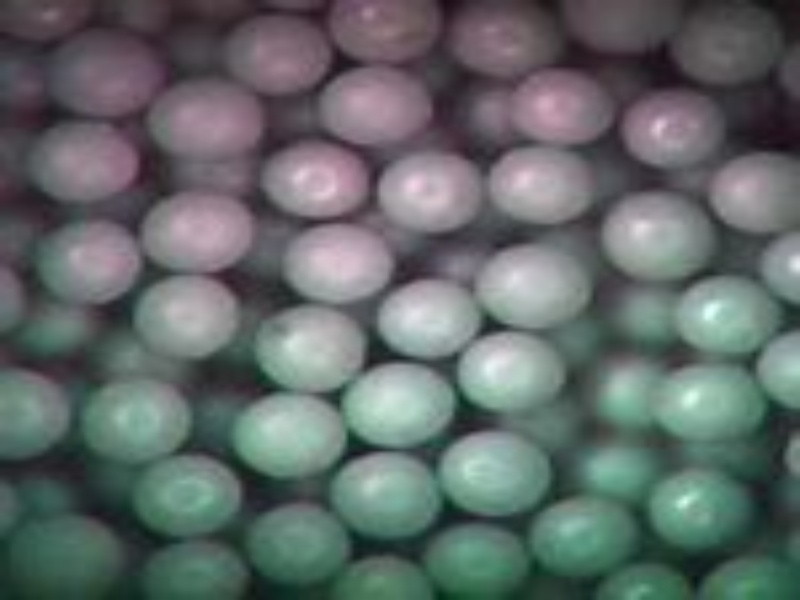bead: (598, 188, 726, 283), (46, 23, 169, 117), (529, 492, 653, 583), (675, 271, 792, 367), (315, 59, 437, 151), (645, 462, 764, 556), (252, 301, 372, 393), (23, 116, 148, 204), (129, 270, 244, 365), (669, 1, 789, 92), (330, 448, 446, 542), (83, 375, 194, 470), (148, 74, 272, 159), (3, 513, 127, 598), (650, 362, 768, 451), (444, 1, 568, 85), (480, 243, 598, 331), (373, 146, 487, 236), (279, 219, 399, 304), (233, 389, 346, 479), (441, 427, 554, 517), (137, 190, 259, 273), (223, 12, 340, 98), (30, 219, 146, 305), (260, 135, 373, 223), (344, 362, 457, 448), (506, 65, 623, 148), (614, 86, 729, 170), (487, 142, 603, 225), (246, 501, 352, 590), (137, 452, 242, 539), (376, 277, 486, 359), (425, 519, 534, 600), (326, 1, 447, 69), (709, 150, 800, 235), (131, 540, 252, 600), (3, 365, 65, 467)
